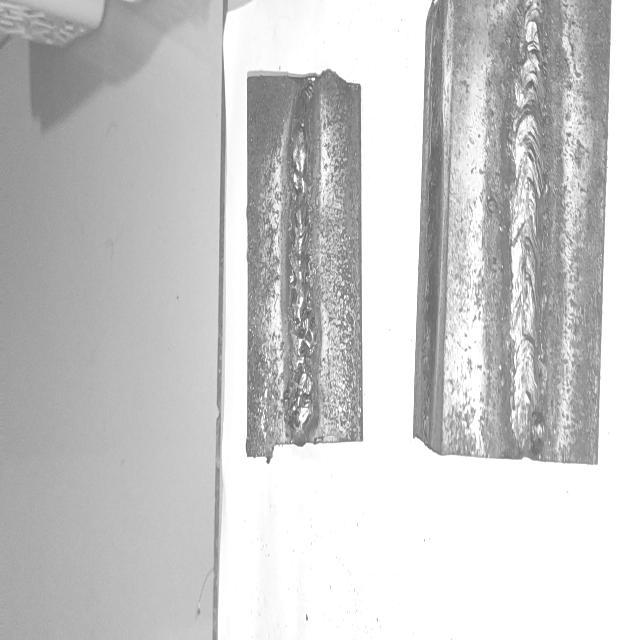Defect: (292, 102, 312, 434)
Welding Line: (514, 0, 547, 444), (292, 86, 312, 433)
Workpiece: (410, 0, 616, 475), (243, 70, 364, 463)
